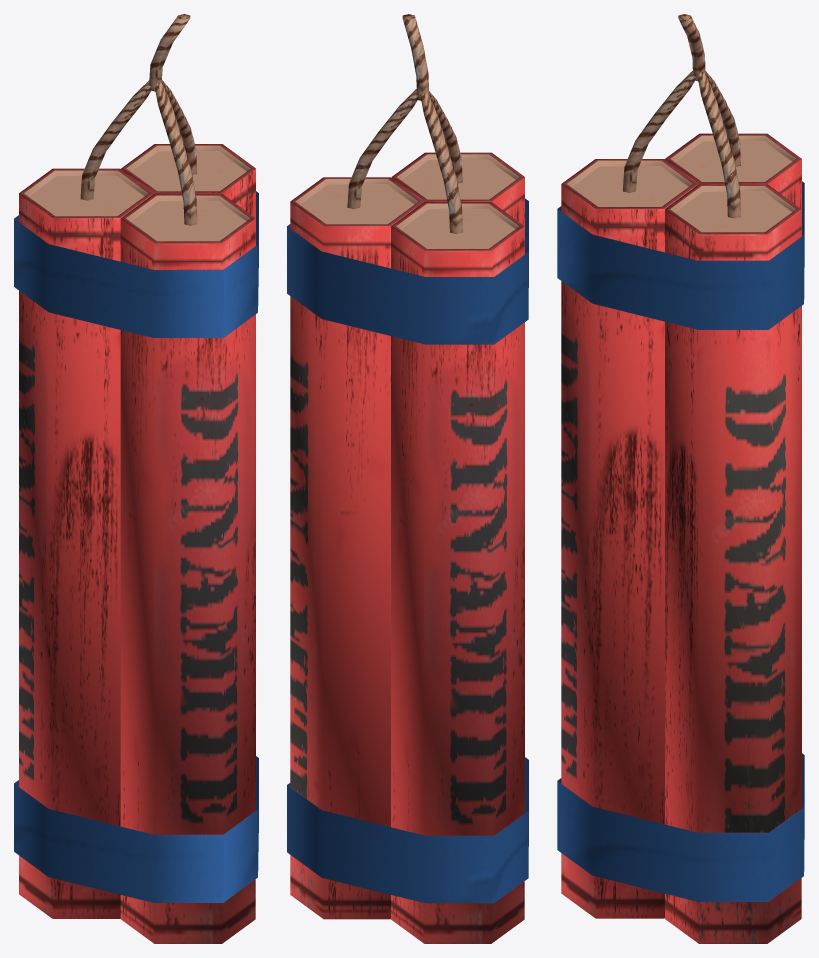
Rendered from три динамита.fbx.
3 views of the same model, side by side, from view 1: azimuth 30°, elevation 25°; view 2: azimuth 150°, elevation 25°; view 3: azimuth 270°, elevation 25° (orthographic). The views are drawn at different scales.
Visible parts, largest first — view 1: три динамита; view 2: три динамита; view 3: три динамита.
Boxes of the visible parts, x1,y1,x2,y2 form: три динамита: [14, 14, 258, 943]; три динамита: [287, 14, 528, 943]; три динамита: [557, 14, 804, 943].
Size of the model in its own units: 866 by 3458 by 873.
Materials: 1 (1 with a texture image).
